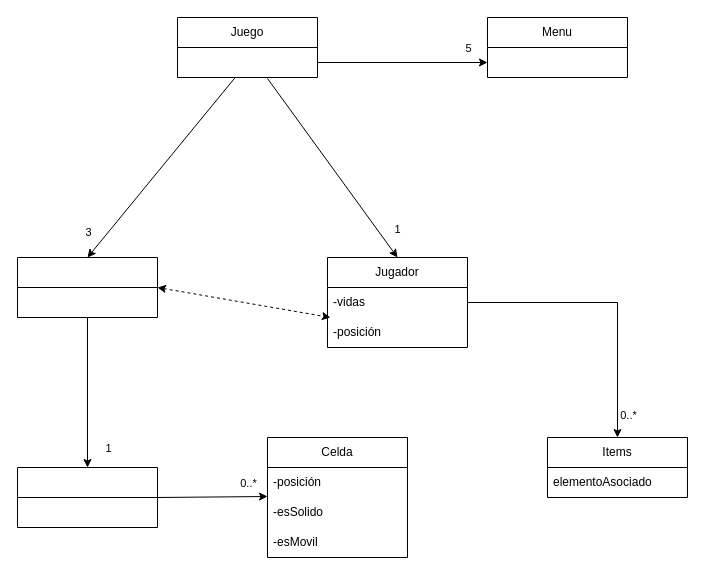
The diagram is 705 pixels wide and 575 high, and some of its shapes have lost their labels. Here are the shapes that lost their labels. From the top down, the box of each, then its label:
(16, 256, 158, 318): Nivel
(16, 466, 158, 528): Mapa
